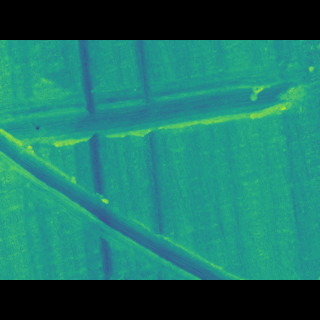Loch: (0, 134, 250, 250), (0, 84, 312, 150)
